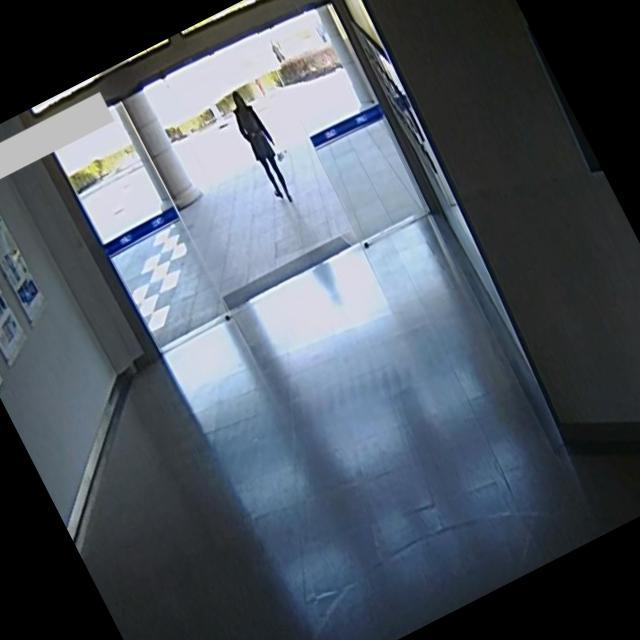person: (214, 75, 309, 212)
